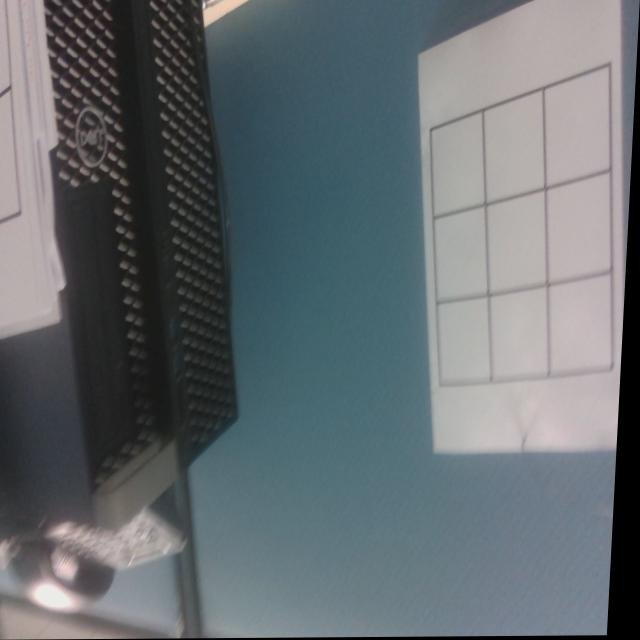null: (542, 62, 618, 191), (481, 85, 553, 208), (545, 167, 619, 285), (484, 188, 555, 297), (427, 106, 491, 220), (548, 276, 618, 376), (489, 286, 557, 384), (432, 205, 495, 307), (437, 296, 497, 387)
table: (425, 53, 621, 395)
